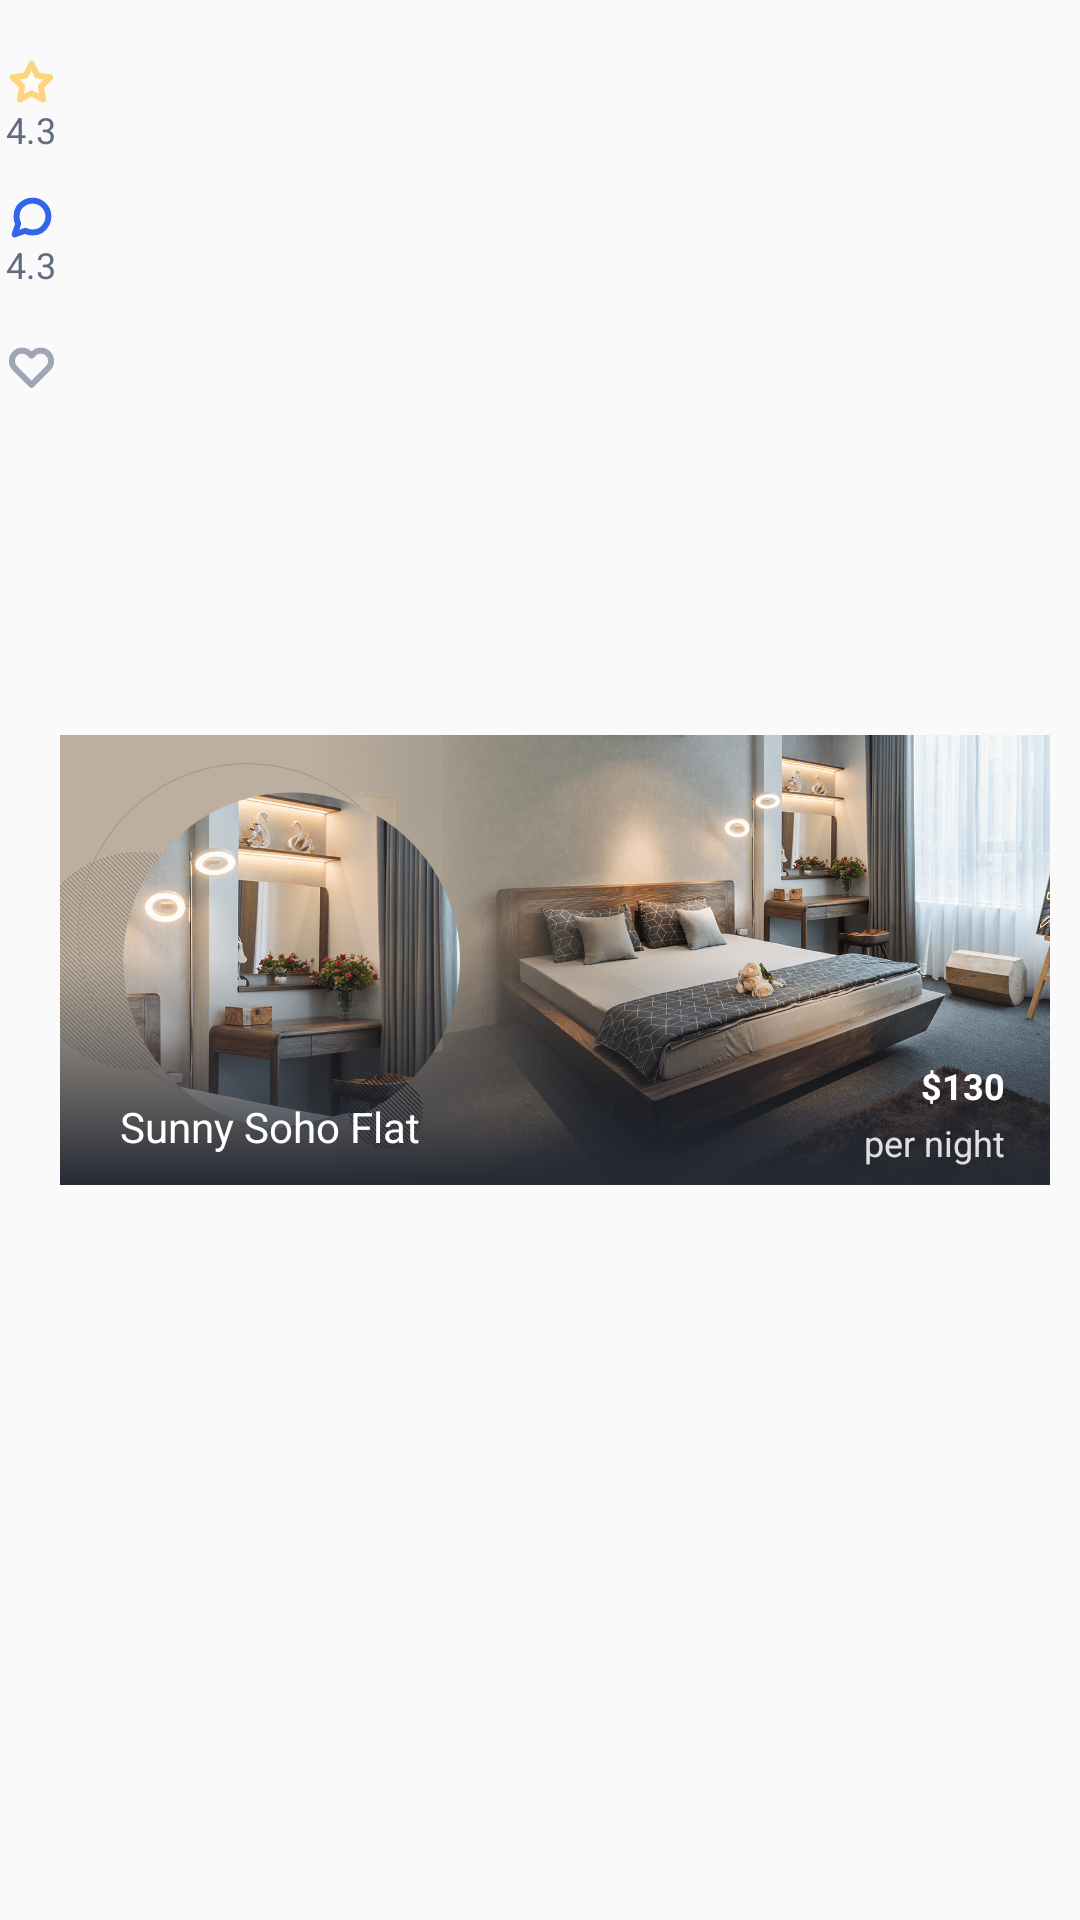

Where to tap for icons on this 1080px x 1920px app screen, as [x,y]:
favorite hint: [31,368]
feather message circle: [31,217]
feather star: [31,81]
